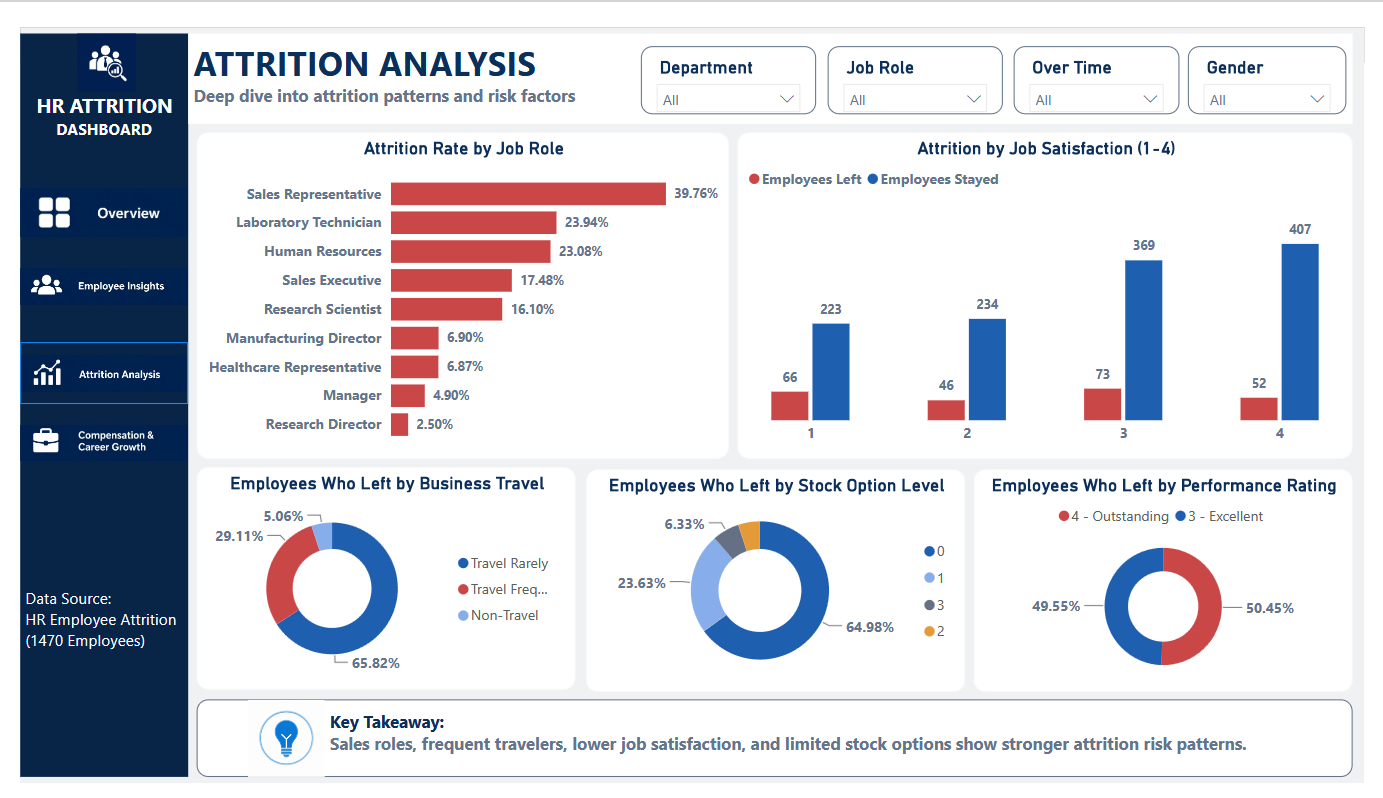

The dashboard page shown, as its layout file describes it:
{"tool":"powerbi","page":{"name":"Attrition Analysis","canvas":[1280,720],"ordinal":2},"visuals":[{"type":"textbox","box":[0,6.5,160.3,707.6],"z":0},{"type":"textbox","box":[160.3,6.5,1109.2,85.8],"z":1000},{"type":"clusteredBarChart","title":"Attrition Rate by Job Role","fields":{"Category":["HR Attrition.job_role"],"Y":["HR Attrition.Attrition Rate"]},"box":[168.4,100.4,506.8,310.9],"z":2000},{"type":"clusteredColumnChart","title":"Attrition by Job Satisfaction (1-4)","fields":{"Category":["HR Attrition.job_satisfaction"],"Y":["HR Attrition.Employees Left","HR Attrition.Employees Stayed"]},"box":[683.3,100.4,586.2,310.9],"z":3000},{"type":"donutChart","title":"Employees Who Left by Business Travel","fields":{"Category":["HR Attrition.business_travel"],"Y":["HR Attrition.Employees Left"]},"box":[168.4,419.4,361.1,212.1],"z":4000},{"type":"slicer","fields":{"Values":["HR Attrition.job_role"]},"box":[769.1,17.8,166.8,64.8],"z":5000},{"type":"image","box":[0,215.4,160.3,63.1],"z":6000},{"type":"image","box":[0,299.6,160.3,59.9],"z":7000},{"type":"image","box":[0,361.1,160.3,69.6],"z":8000},{"type":"image","box":[0,137.6,160.3,77.7],"z":9000},{"type":"image","box":[14.6,6.5,134.4,55.1],"z":10000},{"type":"textbox","box":[0,527.9,160.3,103.6],"z":11000},{"type":"slicer","fields":{"Values":["HR Attrition.over_time"]},"box":[945.6,17.8,158.7,64.8],"z":12000},{"type":"slicer","fields":{"Values":["HR Attrition.gender"]},"box":[1112.4,17.8,150.6,64.8],"z":13000},{"type":"slicer","fields":{"Values":["HR Attrition.department"]},"box":[591,17.8,166.8,64.8],"z":14000},{"type":"donutChart","title":"Employees Who Left by Stock Option Level","fields":{"Y":["HR Attrition.Employees Left"],"Category":["HR Attrition.stock_option_level"]},"box":[539.2,421,361.1,212.1],"z":15000},{"type":"donutChart","title":"Employees Who Left by Performance Rating","fields":{"Y":["HR Attrition.Attrition Rate"],"Category":["HR Attrition.Performance Rating Label"]},"box":[908.4,421,361.1,212.1],"z":16000},{"type":"textbox","box":[168.4,639.6,1101.1,74.5],"z":17000},{"type":"image","box":[217,639.6,72.9,74.5],"z":18000}]}

Visuals, with their boxes in screenshot pixels (x1, y1, x2, y2), scaled from the page's 1280x720 canvas onto the 1383x798 screenshot:
textbox: {"left": 0, "top": 7, "right": 173, "bottom": 791}
textbox: {"left": 173, "top": 7, "right": 1372, "bottom": 102}
"Attrition Rate by Job Role" clusteredBarChart: {"left": 182, "top": 111, "right": 730, "bottom": 456}
"Attrition by Job Satisfaction (1-4)" clusteredColumnChart: {"left": 738, "top": 111, "right": 1372, "bottom": 456}
"Employees Who Left by Business Travel" donutChart: {"left": 182, "top": 465, "right": 572, "bottom": 700}
slicer - HR Attrition.job_role: {"left": 831, "top": 20, "right": 1011, "bottom": 92}
image: {"left": 0, "top": 239, "right": 173, "bottom": 309}
image: {"left": 0, "top": 332, "right": 173, "bottom": 398}
image: {"left": 0, "top": 400, "right": 173, "bottom": 477}
image: {"left": 0, "top": 153, "right": 173, "bottom": 239}
image: {"left": 16, "top": 7, "right": 161, "bottom": 68}
textbox: {"left": 0, "top": 585, "right": 173, "bottom": 700}
slicer - HR Attrition.over_time: {"left": 1022, "top": 20, "right": 1193, "bottom": 92}
slicer - HR Attrition.gender: {"left": 1202, "top": 20, "right": 1365, "bottom": 92}
slicer - HR Attrition.department: {"left": 639, "top": 20, "right": 819, "bottom": 92}
"Employees Who Left by Stock Option Level" donutChart: {"left": 583, "top": 467, "right": 973, "bottom": 702}
"Employees Who Left by Performance Rating" donutChart: {"left": 981, "top": 467, "right": 1372, "bottom": 702}
textbox: {"left": 182, "top": 709, "right": 1372, "bottom": 791}
image: {"left": 234, "top": 709, "right": 313, "bottom": 791}
